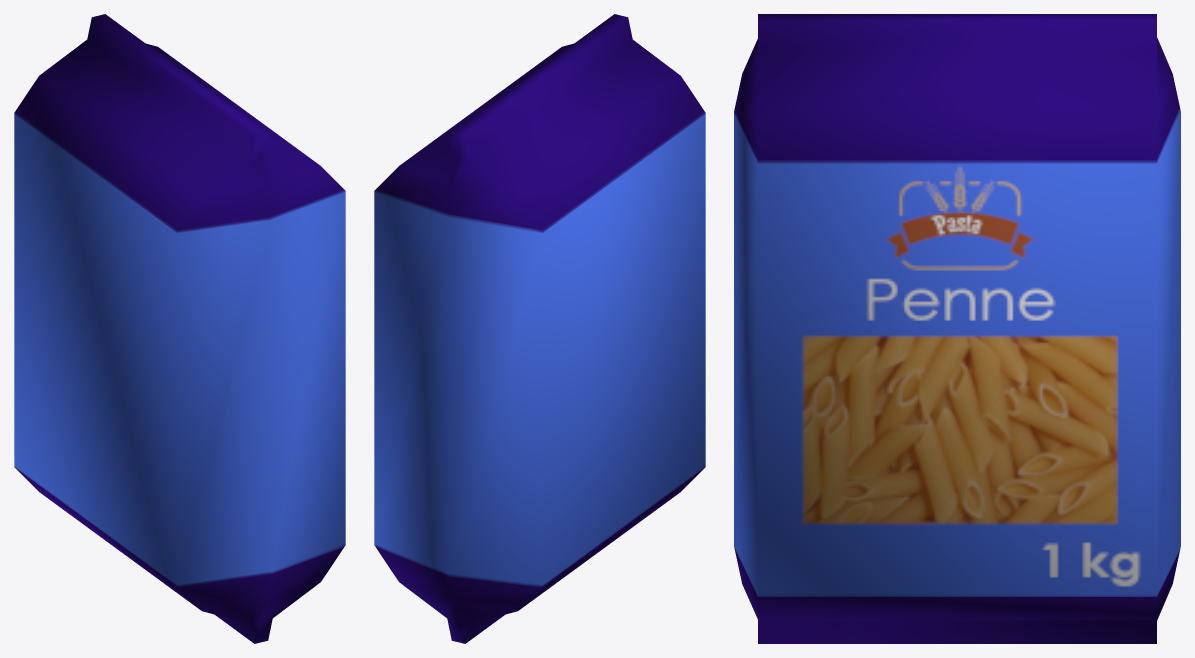
Rendered from pasta_corta_plastica_1kg.fbx.
The picture shows the model from 3 angles, left to right: view 1: azimuth 30°, elevation 25°; view 2: azimuth 150°, elevation 25°; view 3: azimuth 270°, elevation 25°; orthographic projection. The views are drawn at different scales.
Visible parts, largest first — view 1: pasta_corta_plastica_1kg; view 2: pasta_corta_plastica_1kg; view 3: pasta_corta_plastica_1kg.
Boxes of the visible parts, x1,y1,x2,y2 form: pasta_corta_plastica_1kg: [14, 14, 345, 643]; pasta_corta_plastica_1kg: [374, 14, 705, 643]; pasta_corta_plastica_1kg: [734, 14, 1180, 643].
Size of the model in its own units: 73.23 by 211 by 137.
